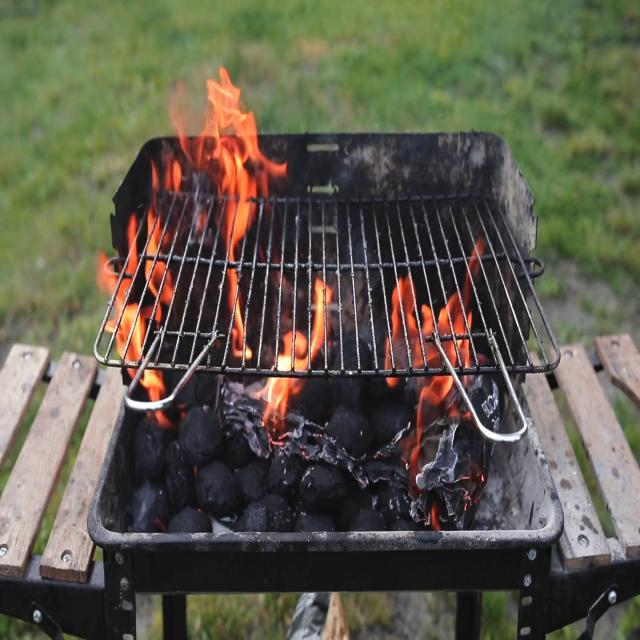Fire: (108, 47, 328, 407), (380, 264, 480, 482)
